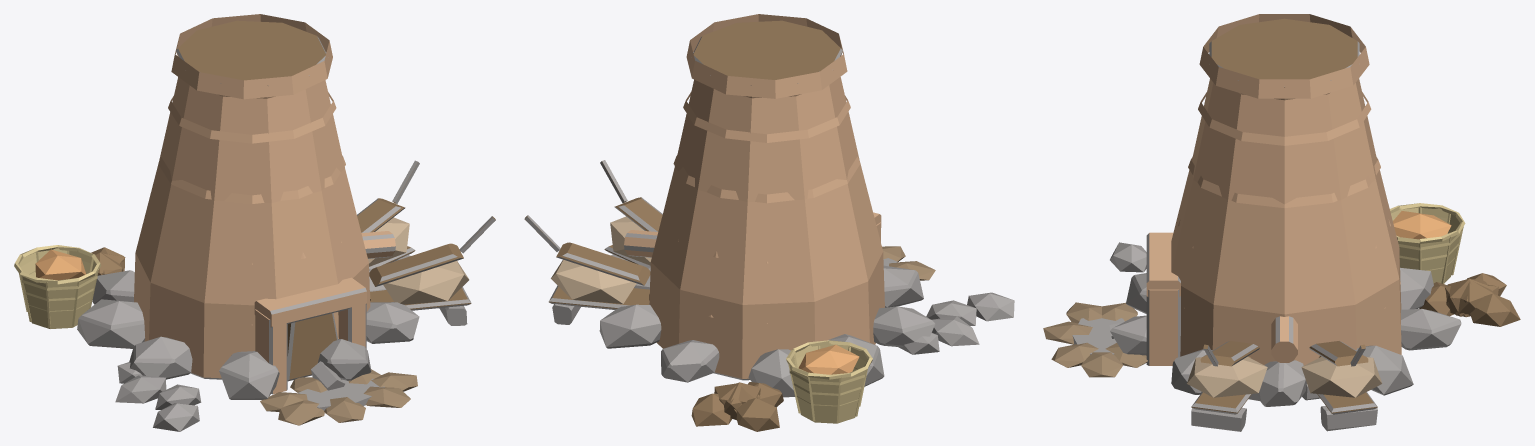
Rendered from asset_smelter_unlit.glb.
3 views of the same model, side by side, from view 1: azimuth 30°, elevation 25°; view 2: azimuth 150°, elevation 25°; view 3: azimuth 270°, elevation 25° (orthographic). The views are drawn at different scales.
Parts seen in each view (by area): view 1: asset_smelter_unlit; view 2: asset_smelter_unlit; view 3: asset_smelter_unlit.
Part boxes in pixels (<box>): asset_smelter_unlit: <box>14,14,495,431</box>; asset_smelter_unlit: <box>524,14,1014,431</box>; asset_smelter_unlit: <box>1043,14,1520,431</box>.
Bounding box in the file's own units: 1.83 × 1.32 × 1.94.
